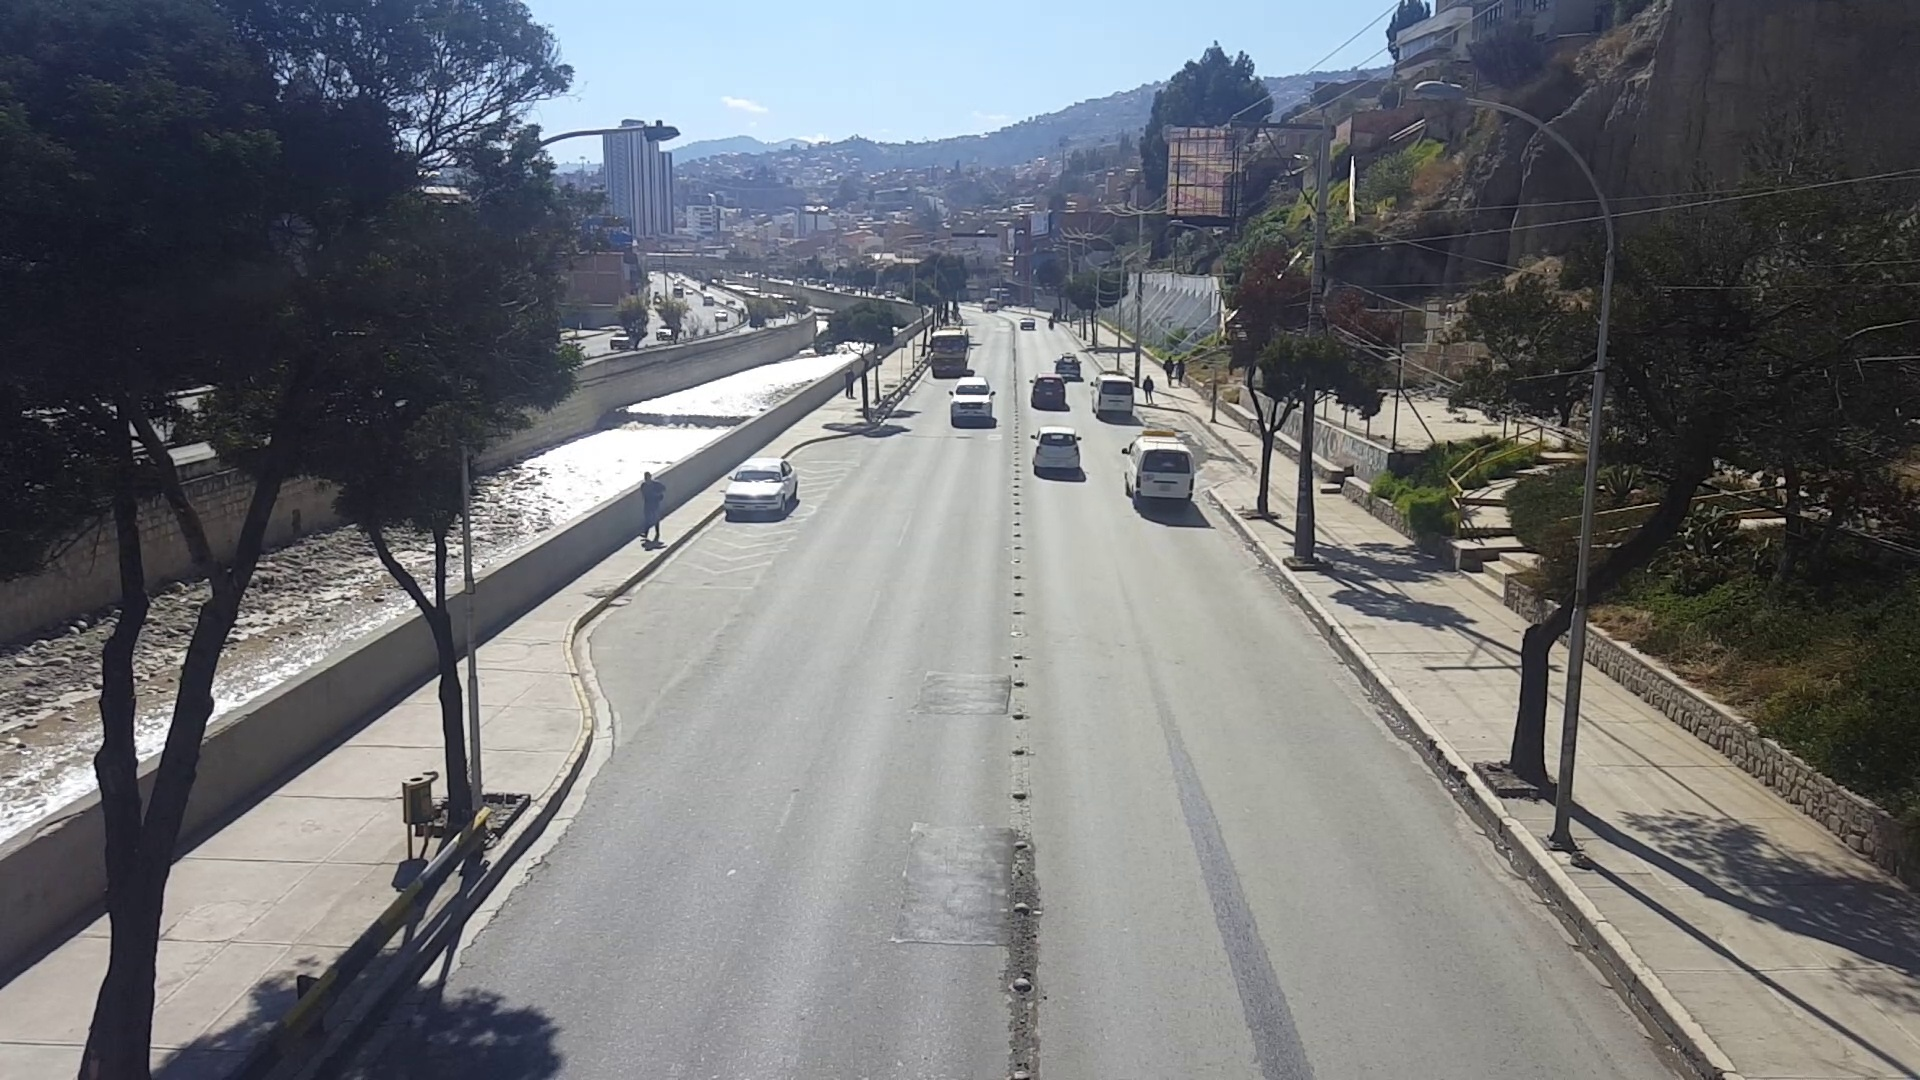automovil: (1029, 423, 1085, 473)
minibus: (1120, 429, 1197, 506)
